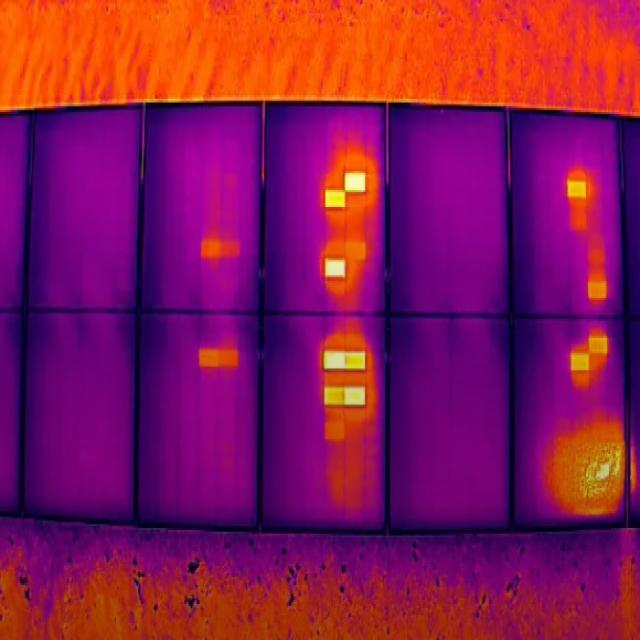hotspot group: (314, 143, 386, 308), (535, 411, 629, 515), (314, 324, 382, 456), (561, 164, 616, 311), (562, 323, 621, 396), (191, 332, 245, 382), (196, 227, 245, 269)
panel with hotspots: (262, 313, 391, 545), (262, 95, 391, 318), (138, 313, 263, 538), (506, 97, 629, 324), (138, 95, 263, 315), (510, 314, 629, 545)
